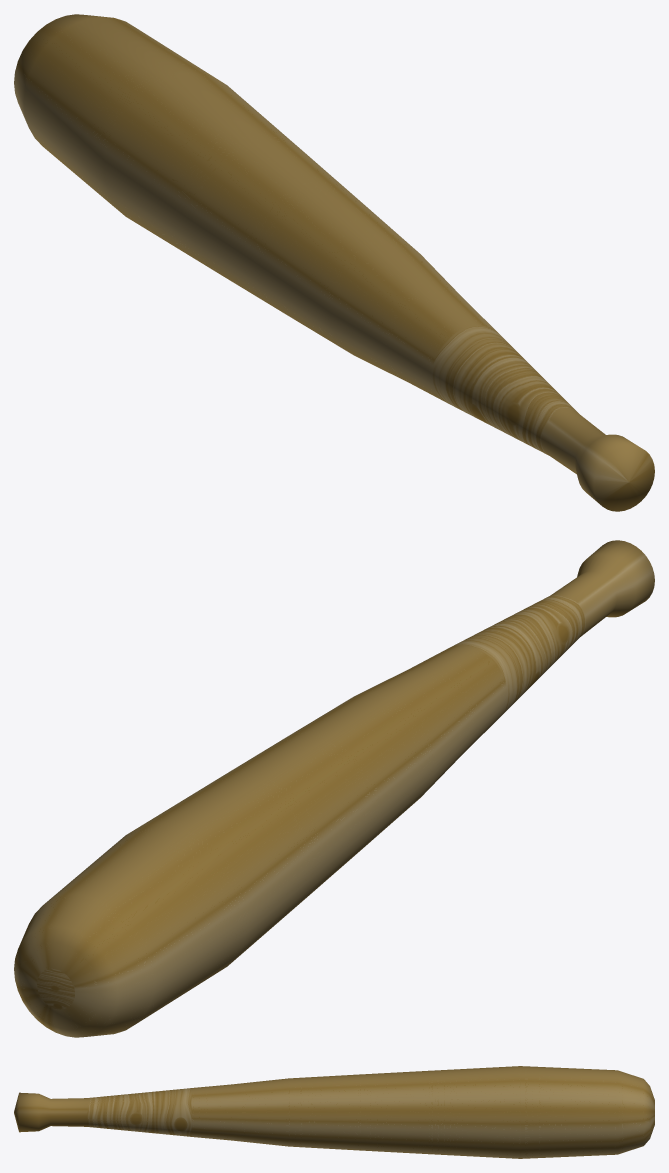
Rendered from Bat.glb.
3 views of the same model, one above another, from view 1: azimuth 30°, elevation 25°; view 2: azimuth 150°, elevation 25°; view 3: azimuth 270°, elevation 25° (orthographic). The views are drawn at different scales.
Visible parts, largest first — view 1: Cylinder; view 2: Cylinder; view 3: Cylinder.
Boxes of the visible parts, x1=… form: Cylinder: x1=14, y1=14, x2=654, y2=511; Cylinder: x1=14, y1=540, x2=654, y2=1037; Cylinder: x1=14, y1=1066, x2=654, y2=1158.
Bounding box in the file's own units: 1.82 × 1.82 × 12.54.
Materials: 1 (1 with a texture image).
